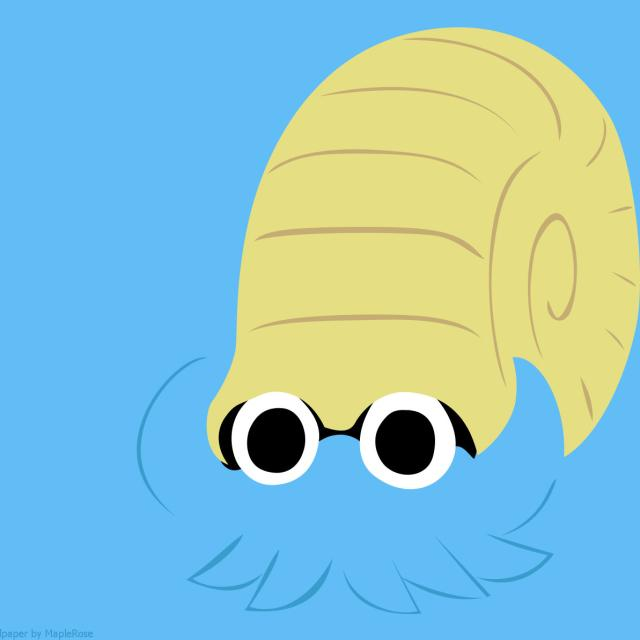Omanyte: (141, 27, 640, 612)
